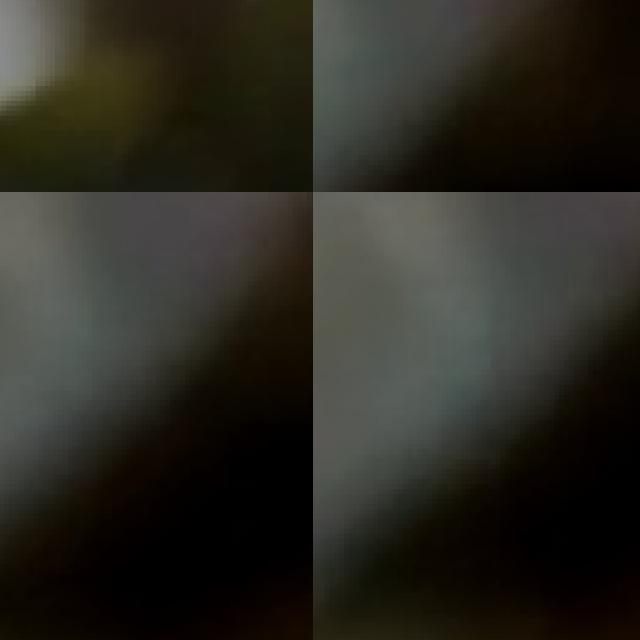fish: (313, 192, 640, 640), (313, 0, 640, 192), (0, 0, 313, 192)
